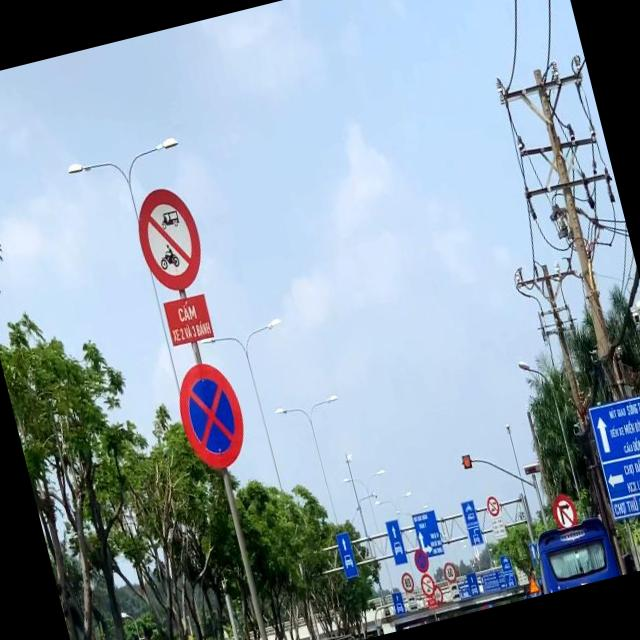P-104: (130, 182, 210, 298)
P-123b: (550, 493, 580, 529)
P-130: (172, 358, 250, 472)
